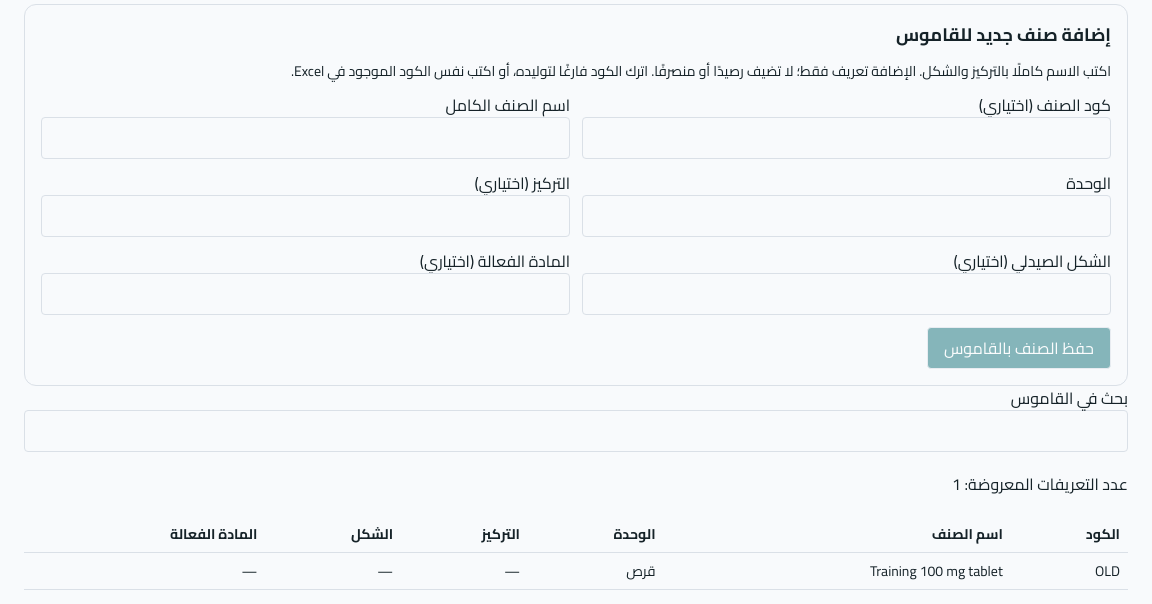
it: lists registered definitions without requiring an inventory upload and saves metadata only
This screenshot has width=1152, height=604.
Step 1. Type "Training 200 mg tablet" into the field labelled "اسم الصنف الكامل" → (306, 138), box [41, 117, 570, 159]
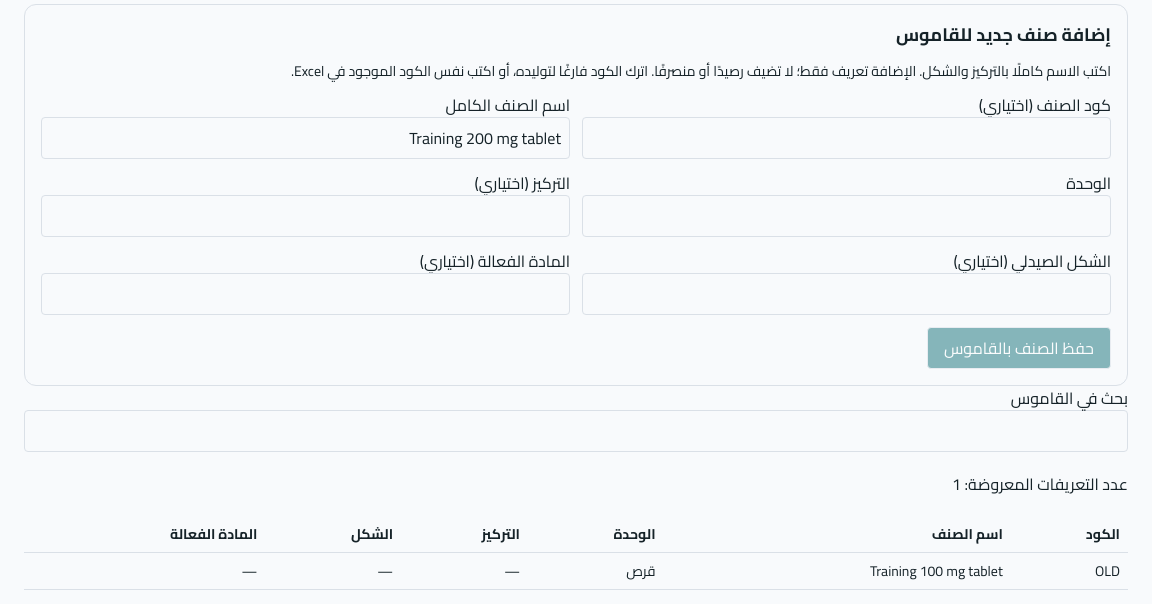
Step 2. Type "قرص" into the field labelled "الوحدة" → (846, 216), box [582, 195, 1111, 237]
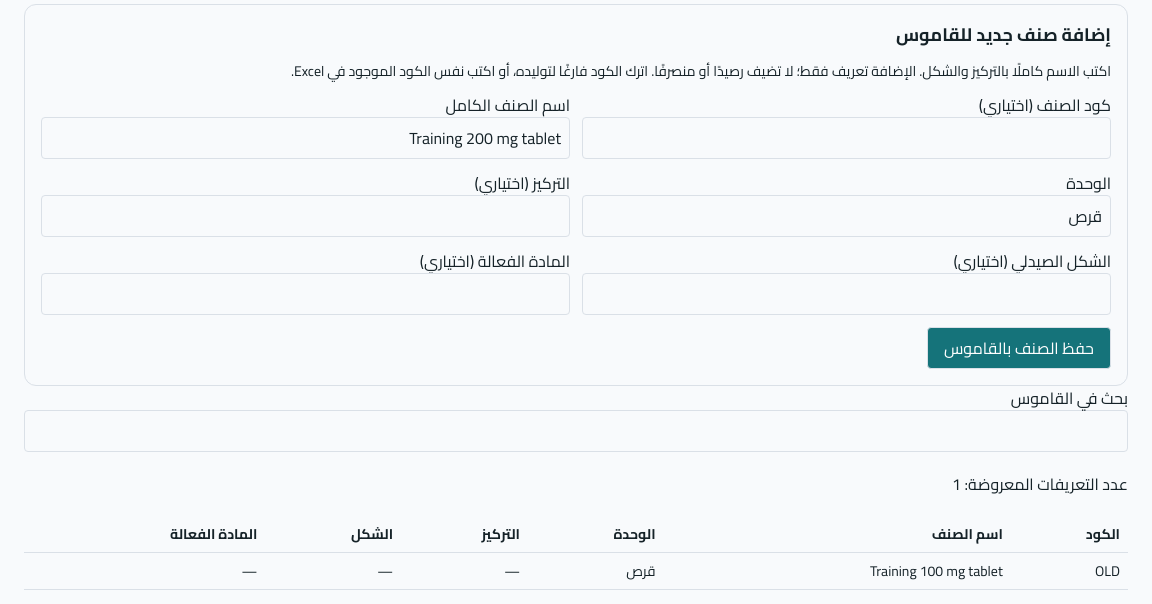
Step 3. Click the button "حفظ الصنف بالقاموس" → (1019, 348), box [927, 327, 1111, 369]
(page scrolled)
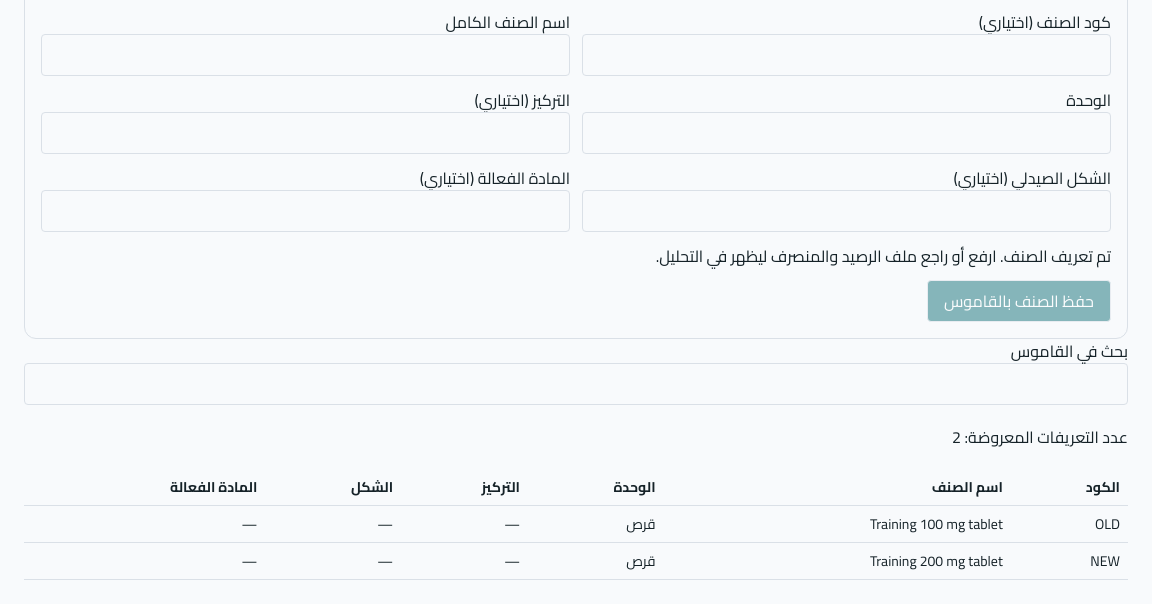
Expected: the text "Training 200 mg tablet" is shown, [664, 542, 1011, 580]
